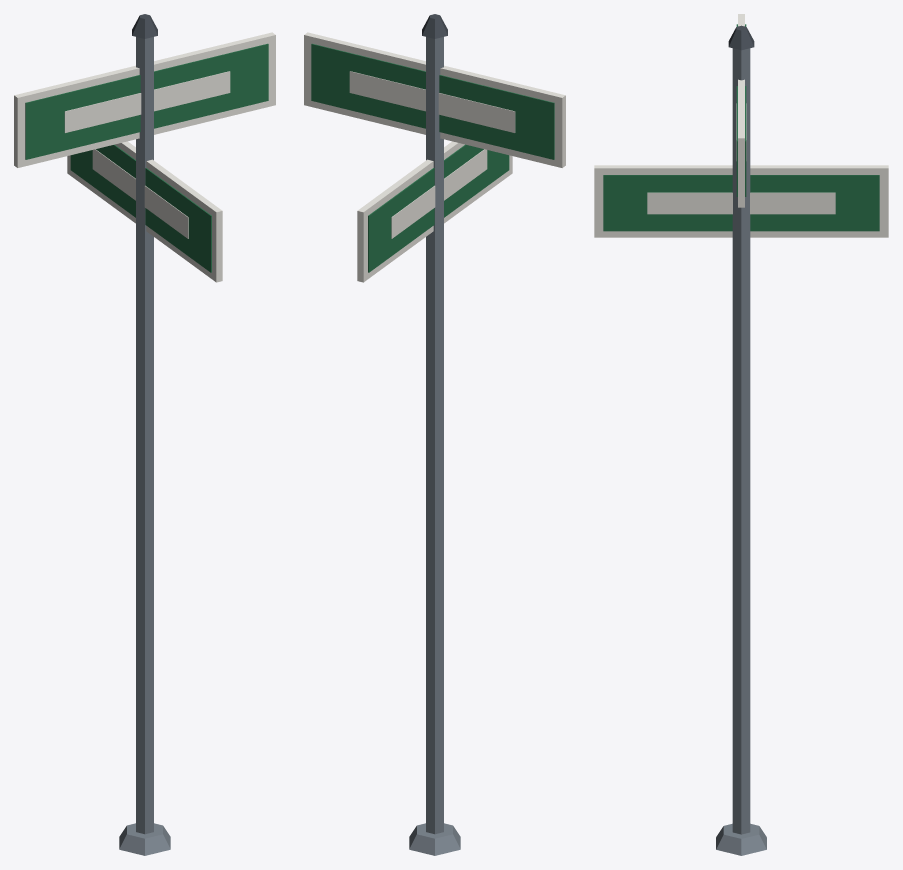
The model's file is street_sign.glb.
The picture shows the model from 3 angles, left to right: view 1: azimuth 30°, elevation 25°; view 2: azimuth 150°, elevation 25°; view 3: azimuth 270°, elevation 25°; orthographic projection.
Parts seen in each view (by area): view 1: Body; view 2: Body; view 3: Body.
Part boxes in pixels (x1,y1,x2,y2): Body: (14, 14, 275, 855); Body: (304, 14, 565, 855); Body: (594, 14, 888, 855).
Bounding box in the file's own units: 1 × 3.06 × 1.
